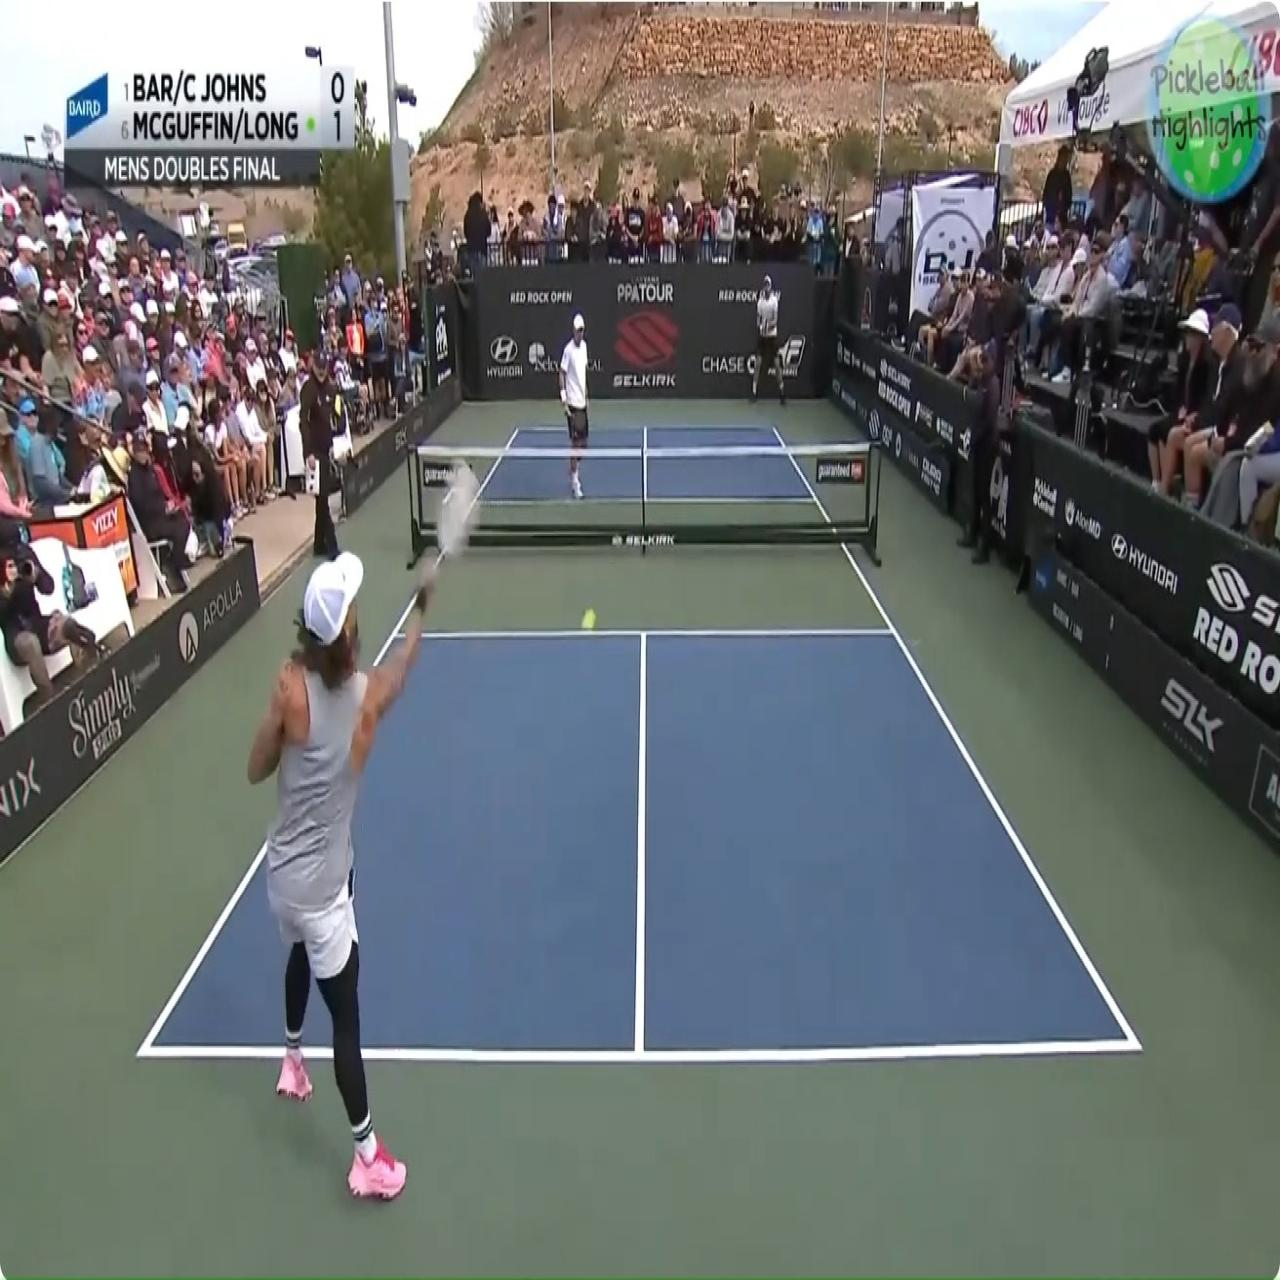pickleball: (580, 607, 597, 629)
